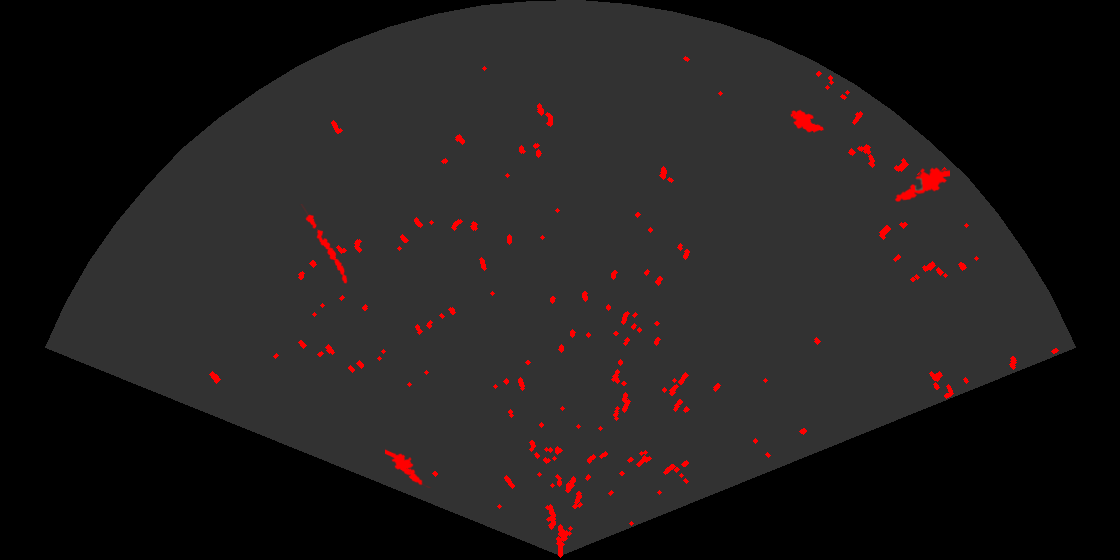AUV: (789, 108, 826, 134)
chain: (299, 204, 349, 285)
frogman: (892, 166, 950, 203), (385, 447, 432, 488)
